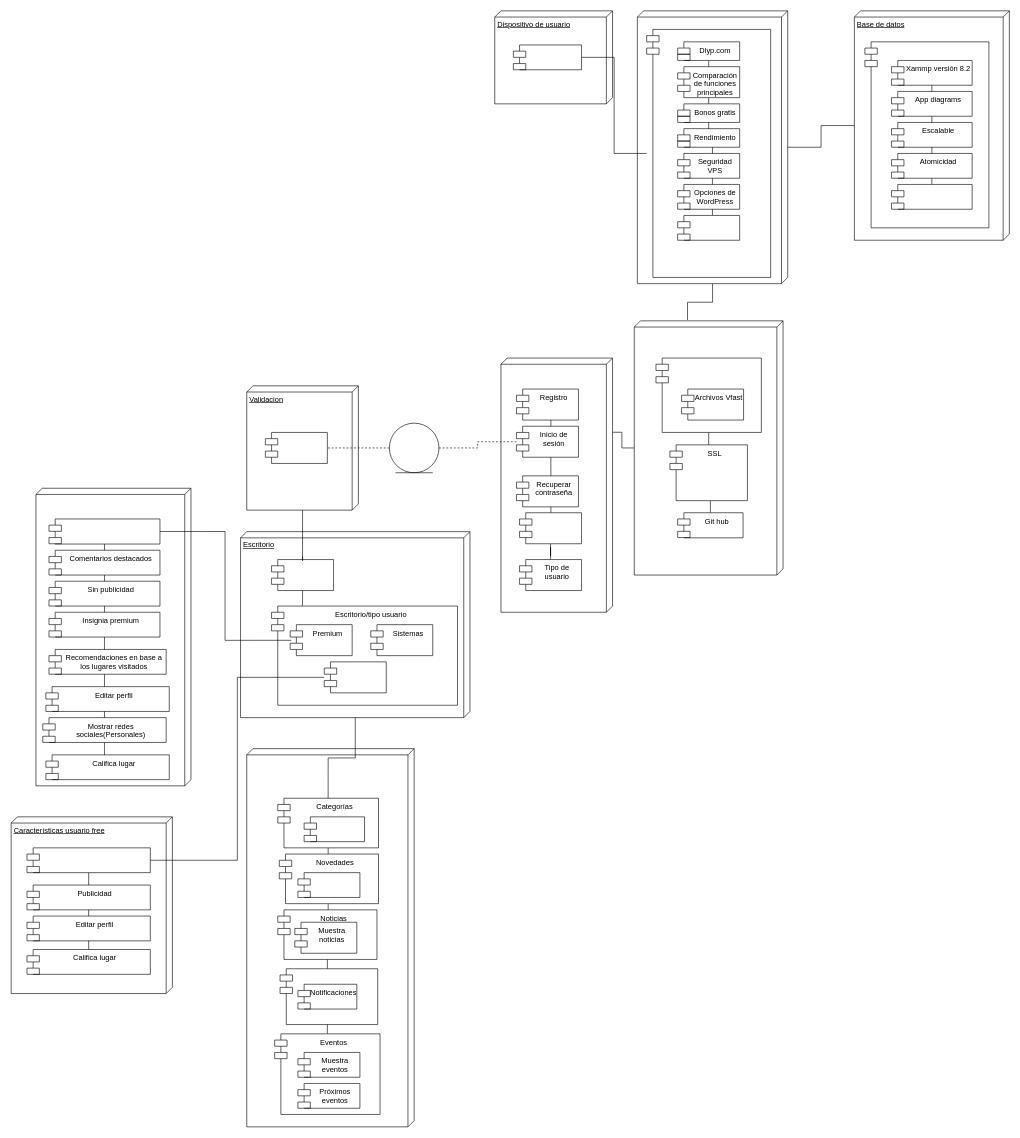
This 1020x1138 diagram has some shape labels left out. Each missing label, with the box of its shape:
Actualizaciones: (279, 968, 378, 1025)
App DLYP/Vfast: (634, 320, 783, 575)
Busqueda: (26, 847, 150, 873)
Búsqueda: (48, 518, 160, 544)
Características usuario premium: (35, 488, 191, 786)
Carpeta Dlyp: (655, 357, 761, 432)
Datos de registro: (265, 432, 327, 463)
Dlyp07: (864, 41, 989, 228)
Free: (324, 661, 386, 693)
Hostinger: (646, 29, 771, 277)
Interacción con el usuario: (389, 423, 439, 473)
Muestra de Selección: (303, 816, 365, 842)
Muestra novedades: (297, 872, 360, 897)
Navegador web: (513, 44, 582, 70)
Perfiles: (271, 559, 334, 591)
PHP 8: (891, 184, 972, 209)
Registro de sesion: (519, 512, 582, 544)
Secciones: (246, 748, 414, 1127)
Servicio y soporte: (677, 215, 740, 240)
Servidor: (637, 10, 788, 284)
Índice: (500, 357, 613, 612)
